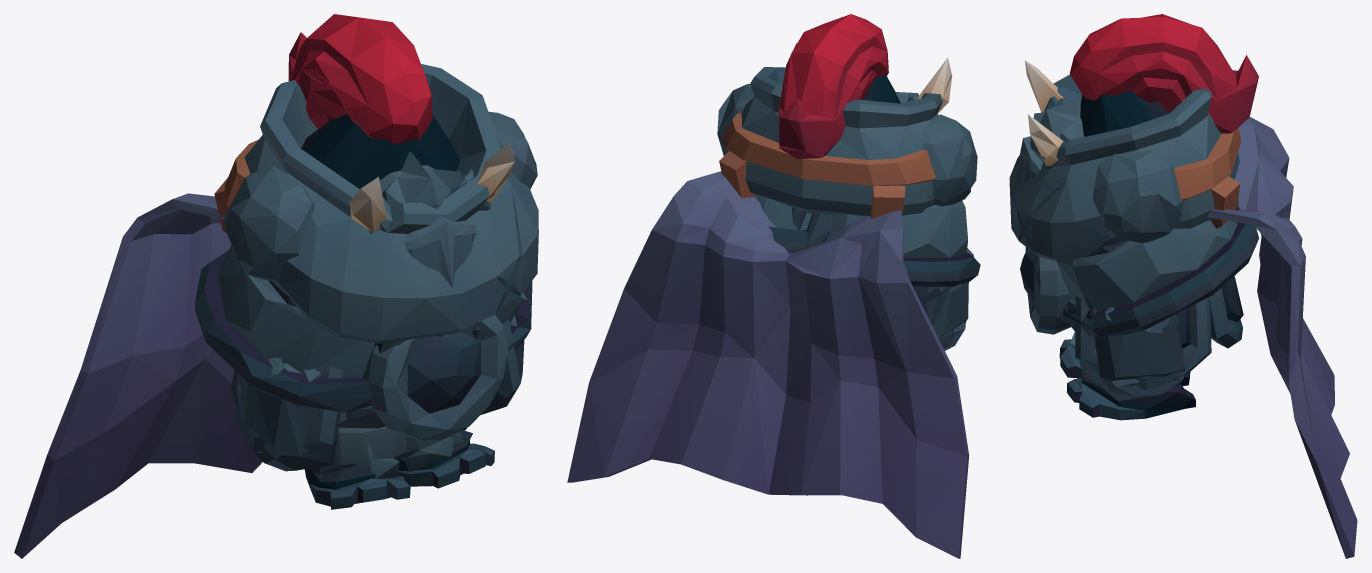
File: black-knight.glb
3 views of the same model, side by side, from view 1: azimuth 30°, elevation 25°; view 2: azimuth 150°, elevation 25°; view 3: azimuth 270°, elevation 25° (orthographic). The views are drawn at different scales.
Visible parts, largest first — view 1: black-knight; view 2: black-knight; view 3: black-knight.
Boxes of the visible parts, x1,y1,x2,y2 form: black-knight: [14, 14, 538, 558]; black-knight: [567, 14, 980, 558]; black-knight: [1009, 14, 1357, 558].
Size of the model in its own units: 0.9026 by 1 by 0.6946.
